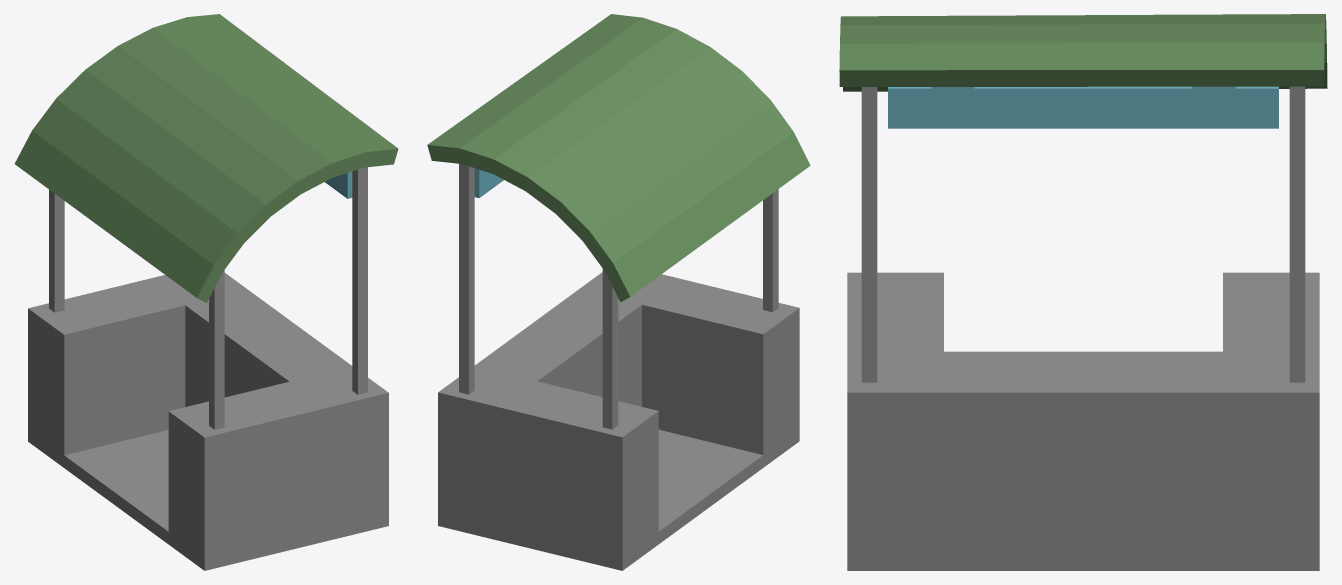
The model's file is booth3.1.fbx.
3 views of the same model, side by side, from view 1: azimuth 30°, elevation 25°; view 2: azimuth 150°, elevation 25°; view 3: azimuth 270°, elevation 25° (orthographic). The views are drawn at different scales.
Visible parts, largest first — view 1: Cube.002, Cube, Cube.001; view 2: Cube.002, Cube, Cube.001, Cube.003; view 3: Cube.002, Cube, Cube.003, Cube.001.
Boxes of the visible parts, <box> form: Cube.002: <box>28,273,388,570</box>; Cube: <box>14,14,398,302</box>; Cube.001: <box>49,167,367,429</box>; Cube.002: <box>438,272,799,570</box>; Cube: <box>427,14,810,302</box>; Cube.001: <box>459,163,778,429</box>; Cube.003: <box>474,168,503,197</box>; Cube.002: <box>847,272,1319,570</box>; Cube: <box>839,14,1327,91</box>; Cube.003: <box>888,86,1278,128</box>; Cube.001: <box>861,86,1305,382</box>.
Bounding box in the file's own units: 1422 × 2558 × 2205.
